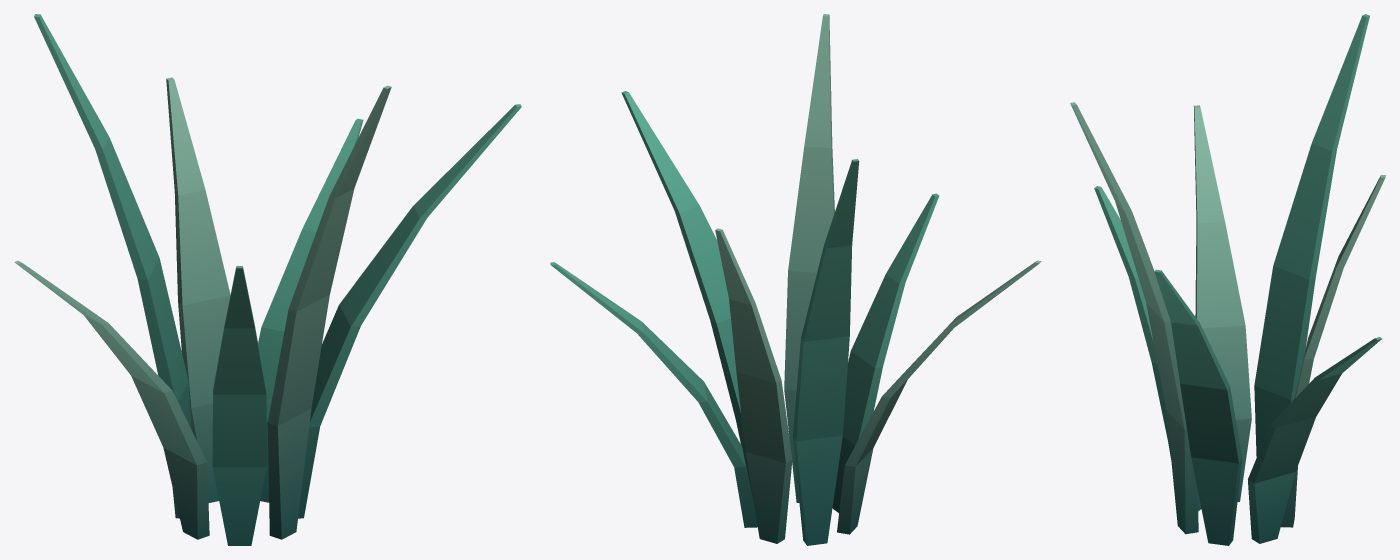
The model's file is Ocean_Seagrass_Ribbon_Cluster_LOD1.glb.
3 renders of one model, left to right at view 1: azimuth 30°, elevation 25°; view 2: azimuth 150°, elevation 25°; view 3: azimuth 270°, elevation 25°, orthographic. The views are drawn at different scales.
Visible parts, largest first — view 1: Ocean_Seagrass_Ribbon_Cluster_LOD1; view 2: Ocean_Seagrass_Ribbon_Cluster_LOD1; view 3: Ocean_Seagrass_Ribbon_Cluster_LOD1.
Boxes of the visible parts, bbox=[...] form: Ocean_Seagrass_Ribbon_Cluster_LOD1: bbox=[14, 14, 521, 545]; Ocean_Seagrass_Ribbon_Cluster_LOD1: bbox=[550, 14, 1041, 545]; Ocean_Seagrass_Ribbon_Cluster_LOD1: bbox=[1070, 14, 1385, 545].
Size of the model in its own units: 0.656 by 0.6258 by 0.4015.
